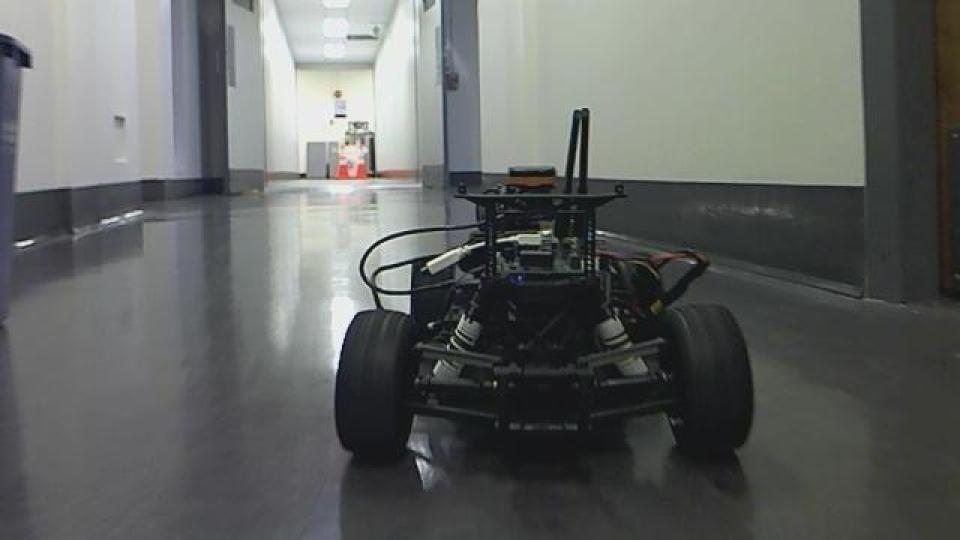car: (330, 107, 758, 471)
